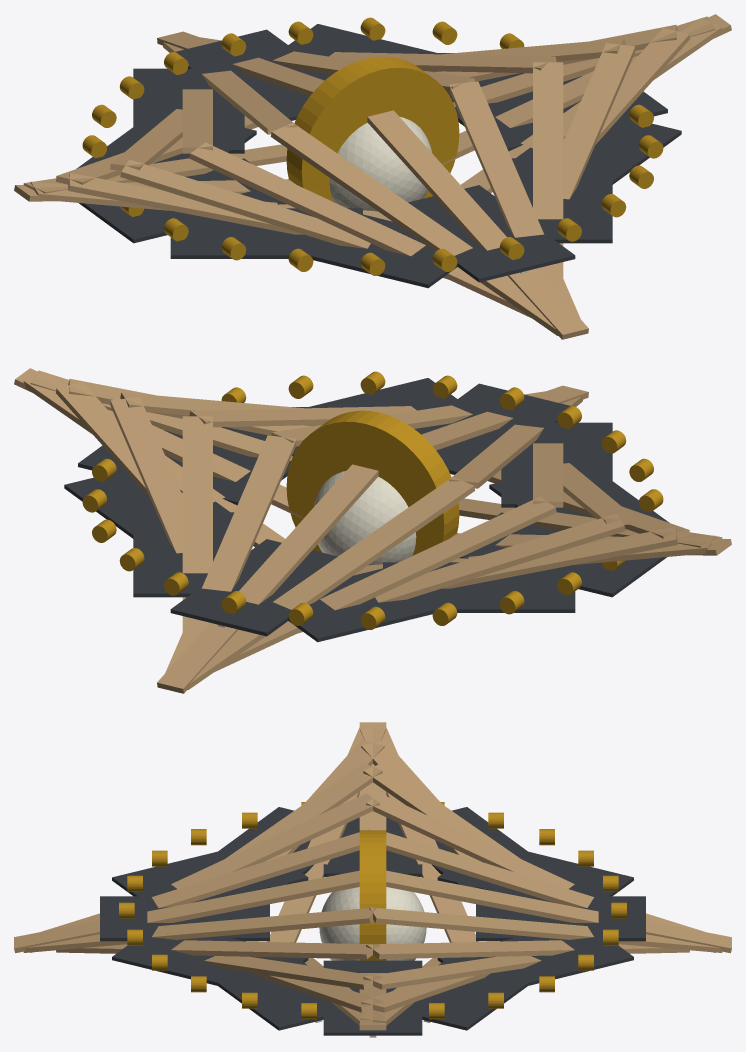
Rendered from stratavox_collapsed.obj.
3 views of the same model, one above another, from view 1: azimuth 30°, elevation 25°; view 2: azimuth 150°, elevation 25°; view 3: azimuth 270°, elevation 25° (orthographic). The views are drawn at different scales.
Visible parts, largest first — view 1: geometry_0, geometry_20, geometry_24, geometry_26, geometry_18, geometry_14, geometry_30, geometry_34, geometry_22, geometry_52, geometry_12, geometry_10 (+25 smaller); view 2: geometry_0, geometry_56, geometry_54, geometry_50, geometry_60, geometry_46, geometry_62, geometry_48, geometry_28, geometry_58, geometry_66, geometry_1 (+25 smaller); view 3: geometry_20, geometry_56, geometry_18, geometry_60, geometry_24, geometry_54, geometry_26, geometry_50, geometry_10, geometry_64, geometry_14, geometry_62 (+25 smaller).
Part boxes in pixels (<box>): geometry_0: <box>286,56,459,201</box>; geometry_20: <box>367,110,588,339</box>; geometry_24: <box>270,123,558,335</box>; geometry_26: <box>189,142,530,317</box>; geometry_18: <box>449,81,580,318</box>; geometry_14: <box>533,62,563,277</box>; geometry_30: <box>120,159,447,279</box>; geometry_34: <box>170,208,362,258</box>; geometry_22: <box>408,185,575,282</box>; geometry_52: <box>133,68,244,153</box>; geometry_12: <box>563,43,635,199</box>; geometry_10: <box>512,116,681,200</box>; geometry_0: <box>286,410,459,555</box>; geometry_56: <box>157,464,378,693</box>; geometry_54: <box>187,477,475,689</box>; geometry_50: <box>215,496,556,671</box>; geometry_60: <box>165,435,296,672</box>; geometry_46: <box>383,562,575,612</box>; geometry_62: <box>182,416,212,631</box>; geometry_48: <box>298,513,625,633</box>; geometry_28: <box>501,422,612,507</box>; geometry_58: <box>170,539,337,636</box>; geometry_66: <box>110,397,182,553</box>; geometry_1: <box>314,471,416,565</box>; geometry_20: <box>14,870,359,953</box>; geometry_56: <box>386,870,731,953</box>; geometry_18: <box>23,907,376,952</box>; geometry_60: <box>369,907,722,952</box>; geometry_24: <box>31,829,369,952</box>; geometry_54: <box>376,829,714,952</box>; geometry_26: <box>171,793,379,888</box>; geometry_50: <box>366,793,574,888</box>; geometry_10: <box>194,956,323,1030</box>; geometry_64: <box>437,938,633,992</box>; geometry_14: <box>56,940,379,959</box>; geometry_62: <box>366,940,689,959</box>.
Bounding box in the file's own units: 1.6 × 0.36 × 1.6.
